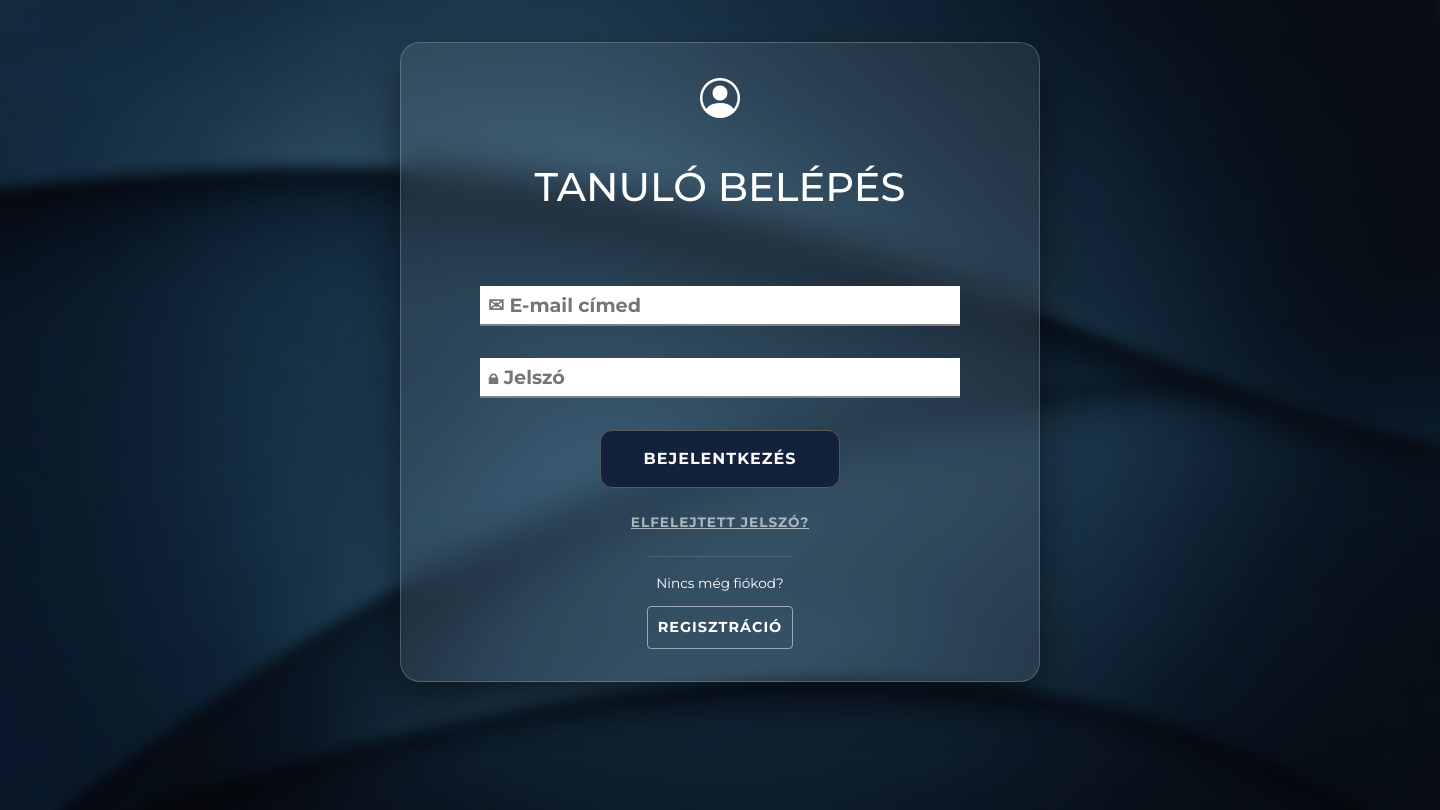
StudentSiteComp – Tanuló bejelentkezés › sikeresen elküldi a reset emailt
(page scrolled)
Step 1. Click the button "Elfelejtett jelszó?" → (720, 522), box 600,496 -> 840,548
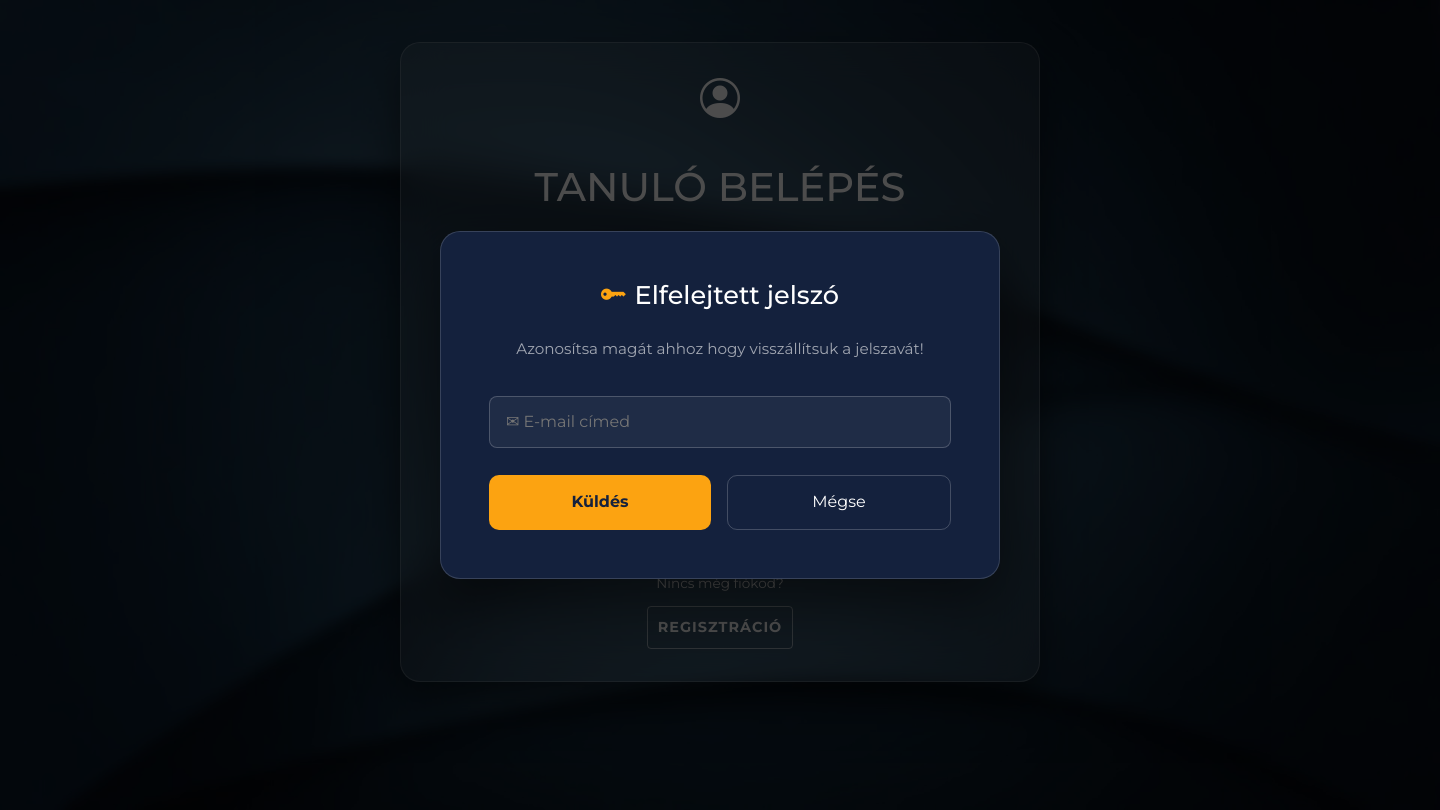
Check: the text "Azonosítsa magát ahhoz hogy visszállítsuk a jelszavát!" is shown, box 489,338 -> 951,361
Step 2. Type "tanulo@test.hu" into the field with placeholder "✉ E-mail címed" → (720, 422), box 489,396 -> 951,448
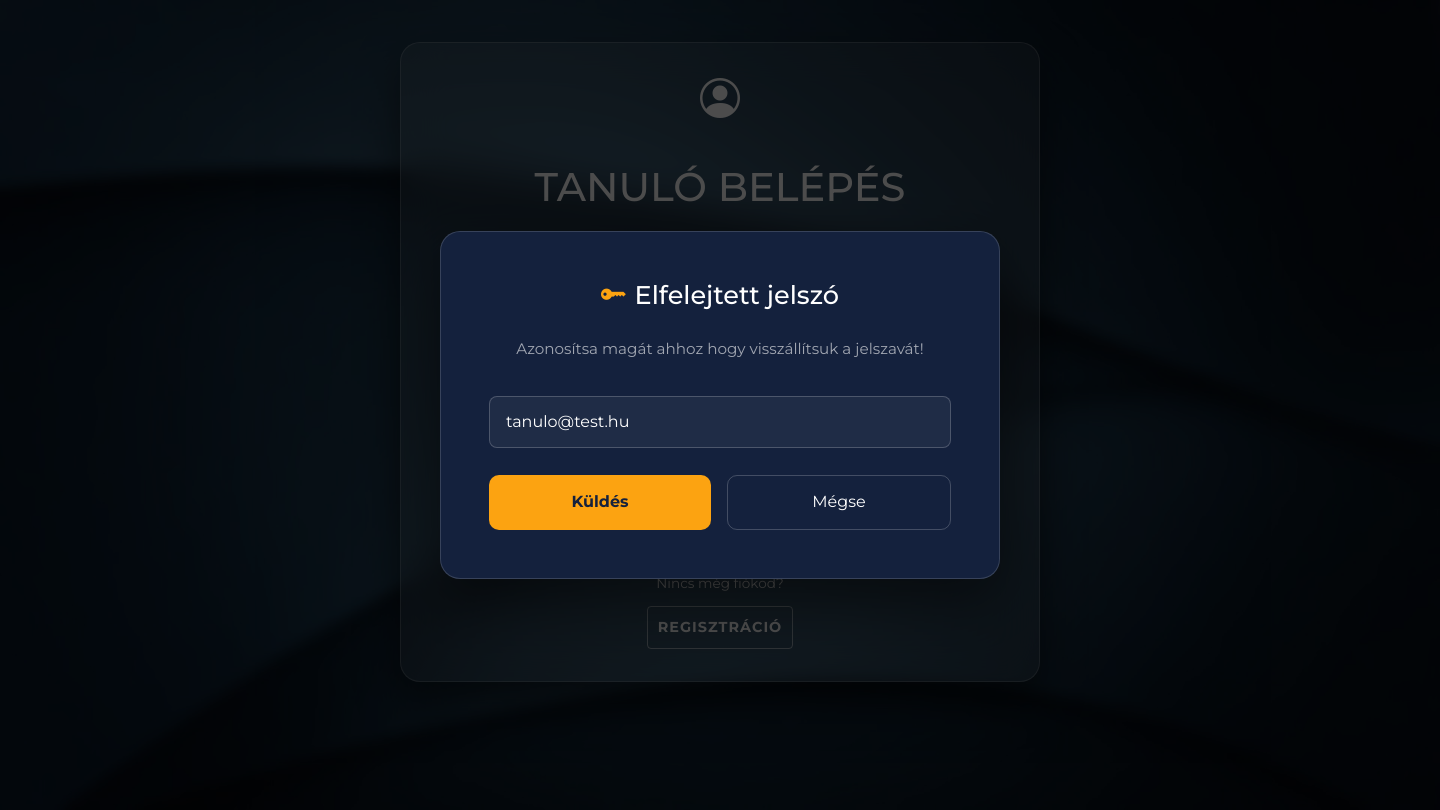
Step 3. Click the button "Küldés" → (600, 502), box 489,475 -> 711,530
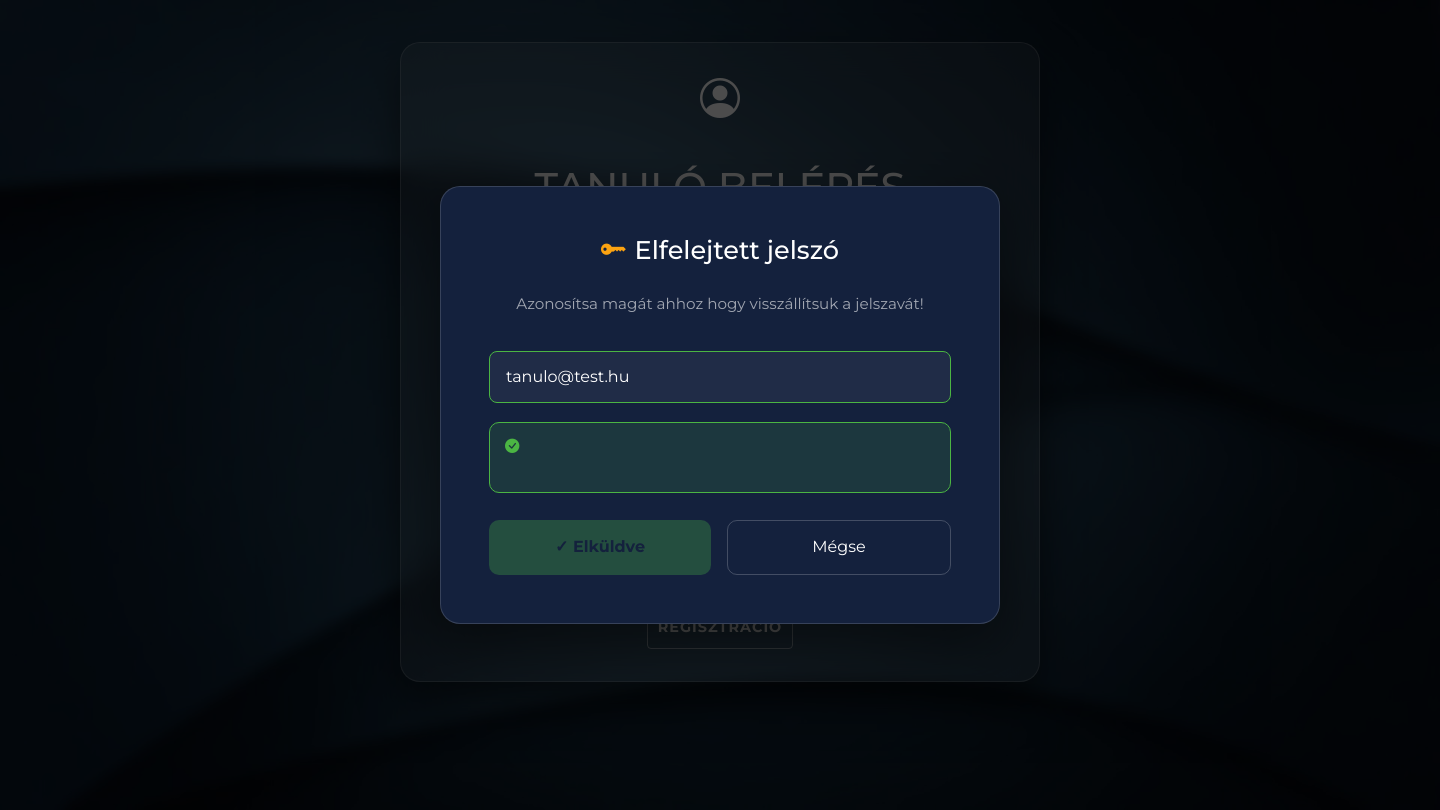
Check: the text "Sikeres azonosítás" is shown, box 520,437 -> 935,476
